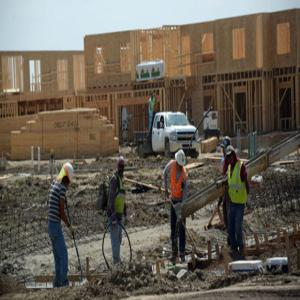red: (117, 156, 126, 176)
white: (60, 161, 76, 191), (175, 149, 187, 172)
